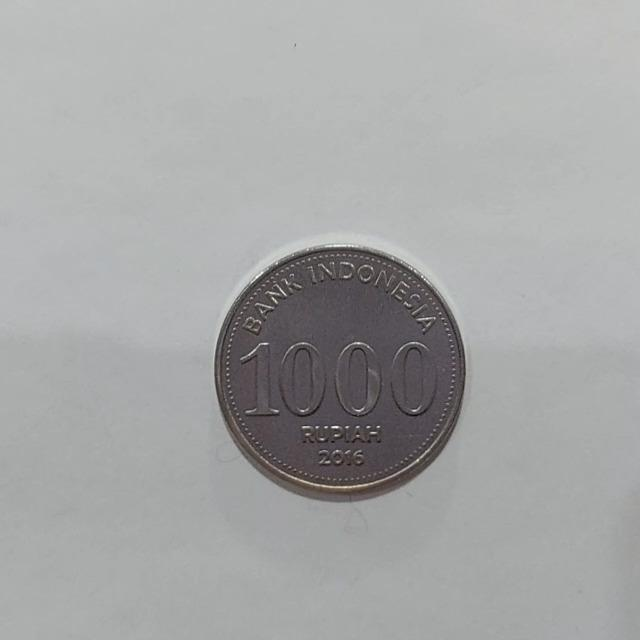Rp100: (212, 239, 467, 502)
